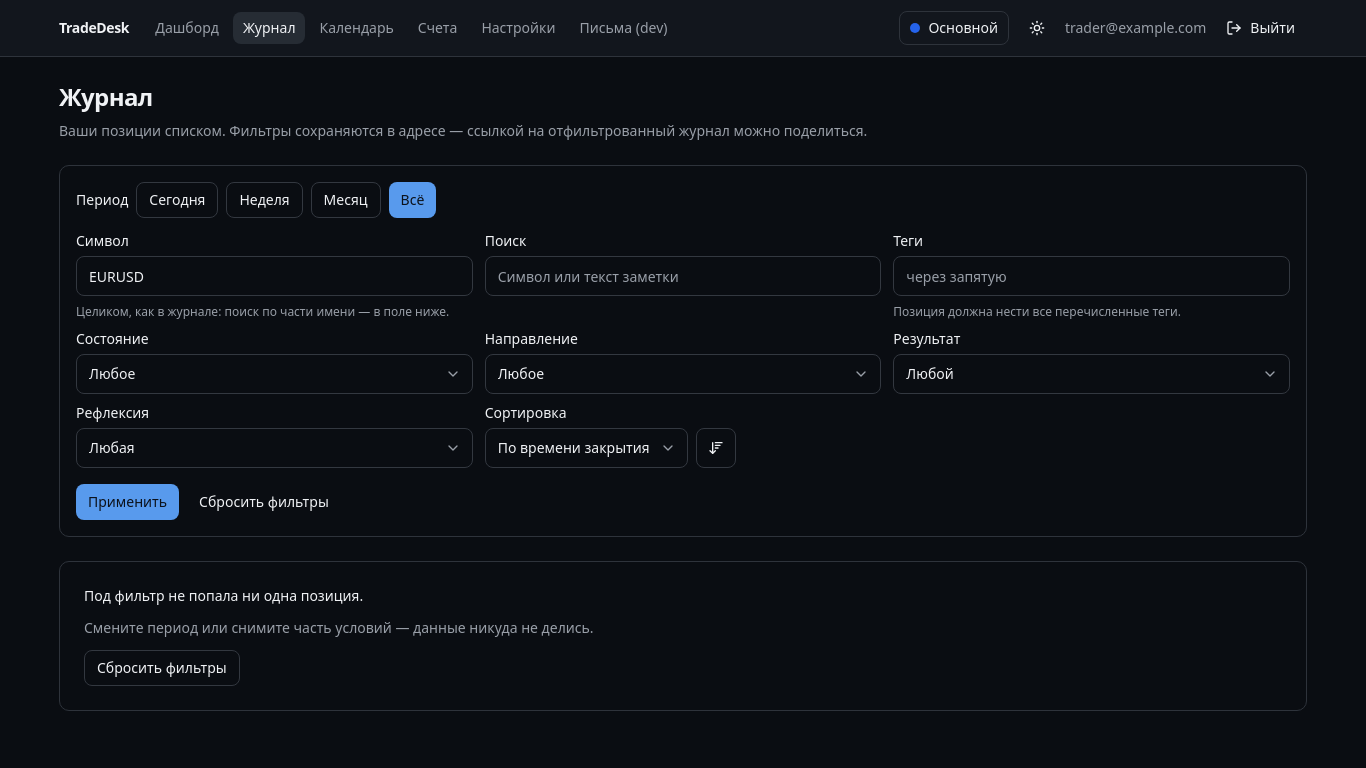
Test case: журнал: пустые состояния › пустой результат фильтра — другое состояние, и его можно снять
Expected: the heading "Журнал" is shown, [59, 80, 153, 113]
Expected: the text "Под фильтр не попала ни одна позиция." is shown, [84, 586, 363, 606]
Click the button "Сбросить фильтры" below "Рефлексия": click(264, 502) [187, 484, 341, 520]
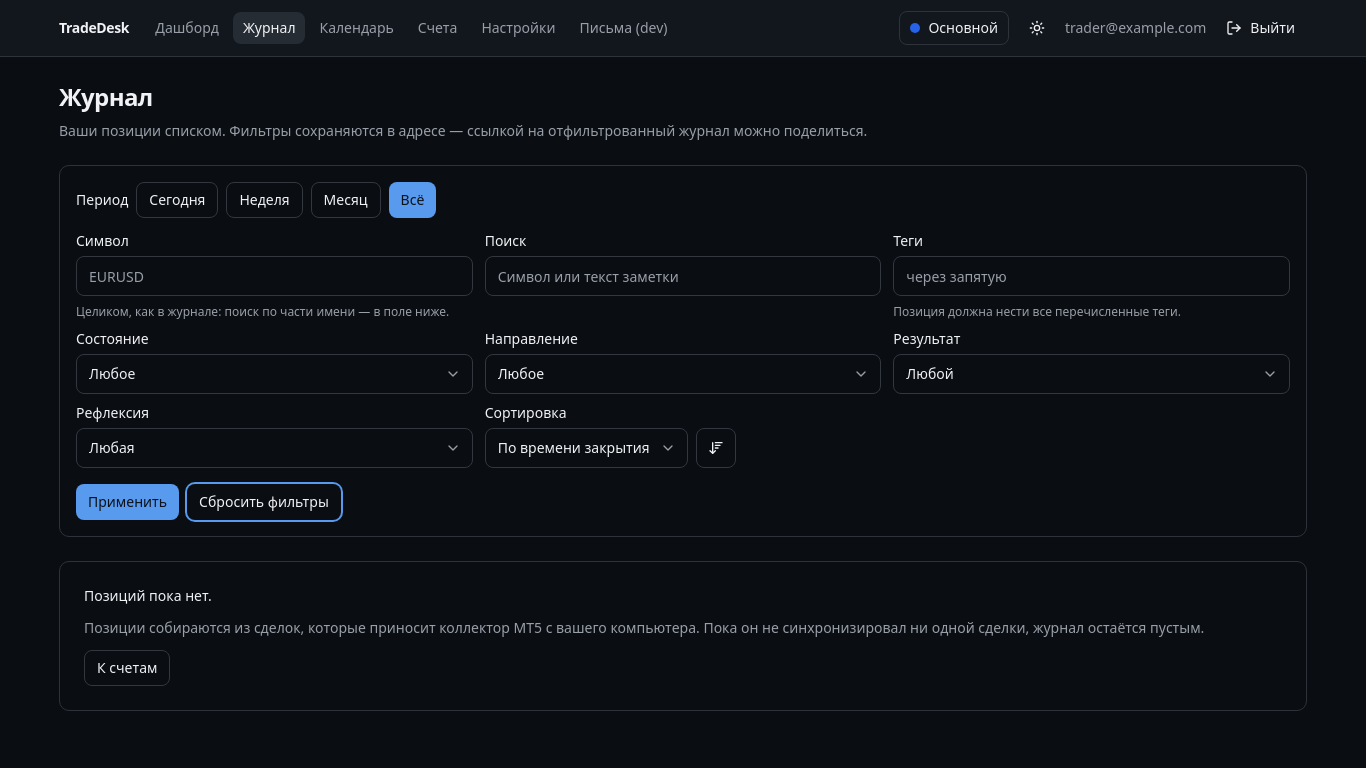
Now the text "Позиций пока нет." is shown, box [84, 586, 212, 606]
